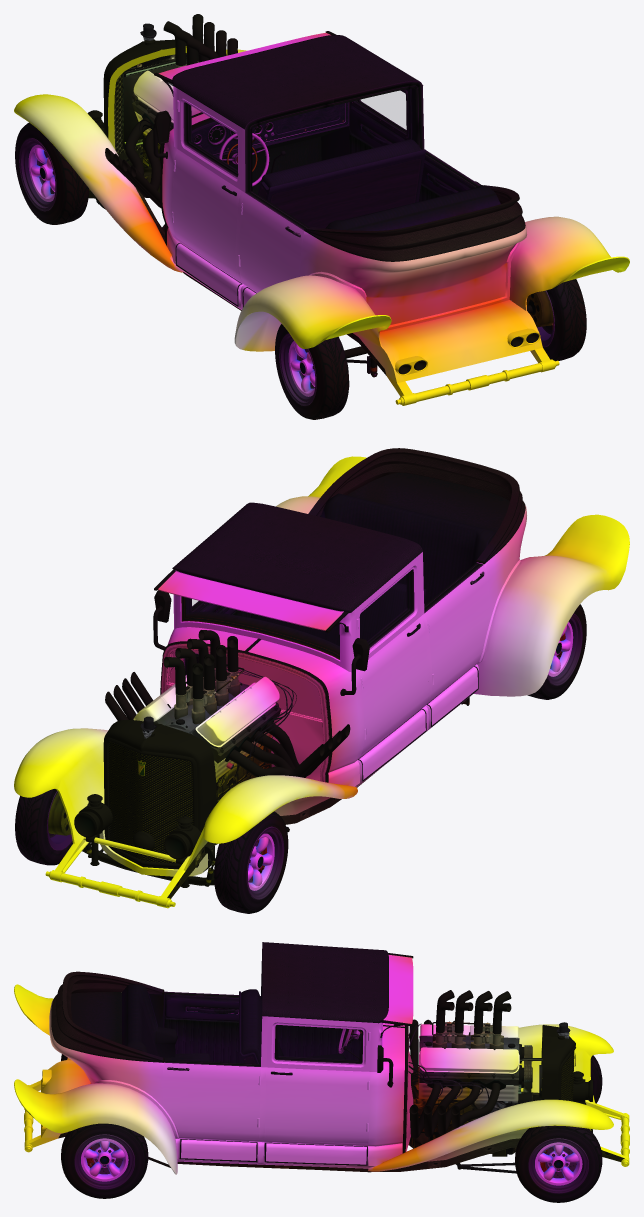
Rendered from btype2.glb.
3 views of the same model, one above another, from view 1: azimuth 30°, elevation 25°; view 2: azimuth 150°, elevation 25°; view 3: azimuth 270°, elevation 25° (orthographic). The views are drawn at different scales.
Visible parts, largest first — view 1: bodyshell, chassis, door_dside_f, wheel_lr, door_dside_r, wheel_lf, engineblock, wheel_rr, door_pside_f, misc_a, window_lf, door_pside_r (+3 smaller); view 2: bodyshell, chassis, engineblock, door_dside_f, door_dside_r, wheel_lf, misc_a, wheel_rf, wheel_lr, window_lf, transmission_f, hub_rf; view 3: bodyshell, chassis, engineblock, door_pside_f, door_pside_r, wheel_rf, wheel_rr, door_dside_r, misc_a, window_rf, door_dside_f, wheel_lf.
Boxes of the visible parts, bbox=[...] form: bodyshell: bbox=[14, 23, 629, 405]; chassis: bbox=[100, 53, 500, 375]; door_dside_f: bbox=[172, 90, 241, 279]; wheel_lr: bbox=[275, 324, 349, 419]; door_dside_r: bbox=[238, 191, 309, 292]; wheel_lf: bbox=[15, 122, 89, 224]; engineblock: bbox=[105, 57, 201, 207]; wheel_rr: bbox=[537, 279, 586, 361]; door_pside_f: bbox=[349, 88, 413, 153]; misc_a: bbox=[132, 14, 237, 102]; window_lf: bbox=[186, 103, 238, 175]; door_pside_r: bbox=[419, 149, 480, 201]; bodyshell: bbox=[14, 448, 629, 908]; chassis: bbox=[161, 473, 509, 898]; engineblock: bbox=[105, 660, 350, 803]; door_dside_f: bbox=[356, 555, 428, 754]; door_dside_r: bbox=[424, 562, 491, 700]; wheel_lf: bbox=[214, 811, 288, 913]; misc_a: bbox=[163, 630, 244, 712]; wheel_rf: bbox=[15, 789, 72, 865]; wheel_lr: bbox=[527, 604, 586, 699]; window_lf: bbox=[360, 571, 411, 645]; transmission_f: bbox=[82, 842, 214, 886]; hub_rf: bbox=[48, 792, 71, 835]; bodyshell: bbox=[14, 942, 629, 1174]; chassis: bbox=[58, 949, 624, 1173]; engineblock: bbox=[408, 1019, 542, 1154]; door_pside_f: bbox=[264, 1017, 370, 1143]; door_pside_r: bbox=[162, 1060, 260, 1139]; wheel_rf: bbox=[515, 1125, 602, 1202]; wheel_rr: bbox=[61, 1123, 148, 1198]; door_dside_r: bbox=[163, 991, 260, 1063]; misc_a: bbox=[432, 990, 532, 1103]; window_rf: bbox=[275, 1025, 362, 1062]; door_dside_f: bbox=[276, 1025, 361, 1060]; wheel_lf: bbox=[590, 1055, 602, 1103].
Bounding box in the file's own units: 2.29 × 1.61 × 4.77.
20 materials, 19 textured.
